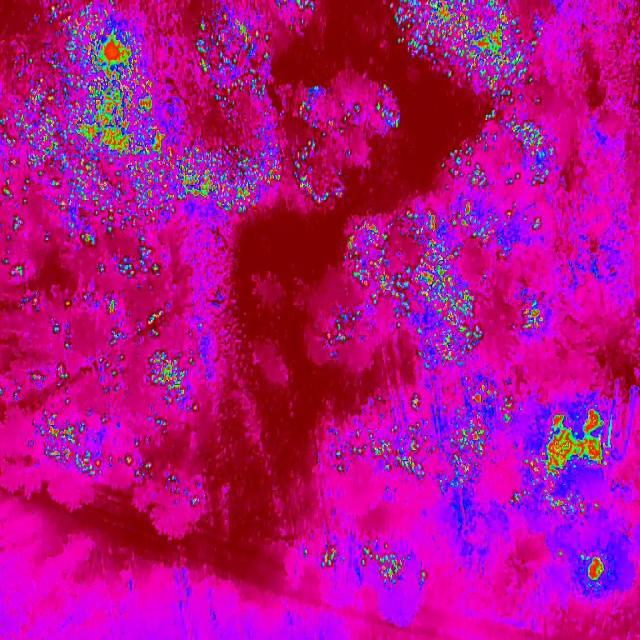fire: (0, 56, 280, 219), (346, 203, 496, 361), (368, 378, 512, 491), (36, 0, 316, 55), (391, 0, 552, 95), (11, 287, 130, 411), (292, 87, 401, 204), (513, 408, 613, 522), (140, 305, 214, 429), (444, 113, 556, 191), (28, 412, 148, 479), (320, 537, 428, 594), (568, 546, 618, 592), (329, 424, 368, 474), (114, 242, 162, 282), (324, 307, 348, 361), (521, 297, 545, 331)
